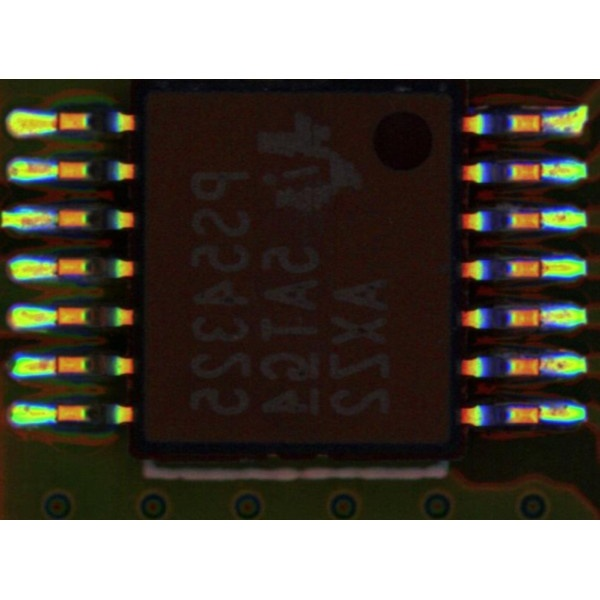Bad_podu: (40, 358, 71, 371), (41, 261, 73, 273), (43, 117, 70, 129), (528, 262, 556, 273)
